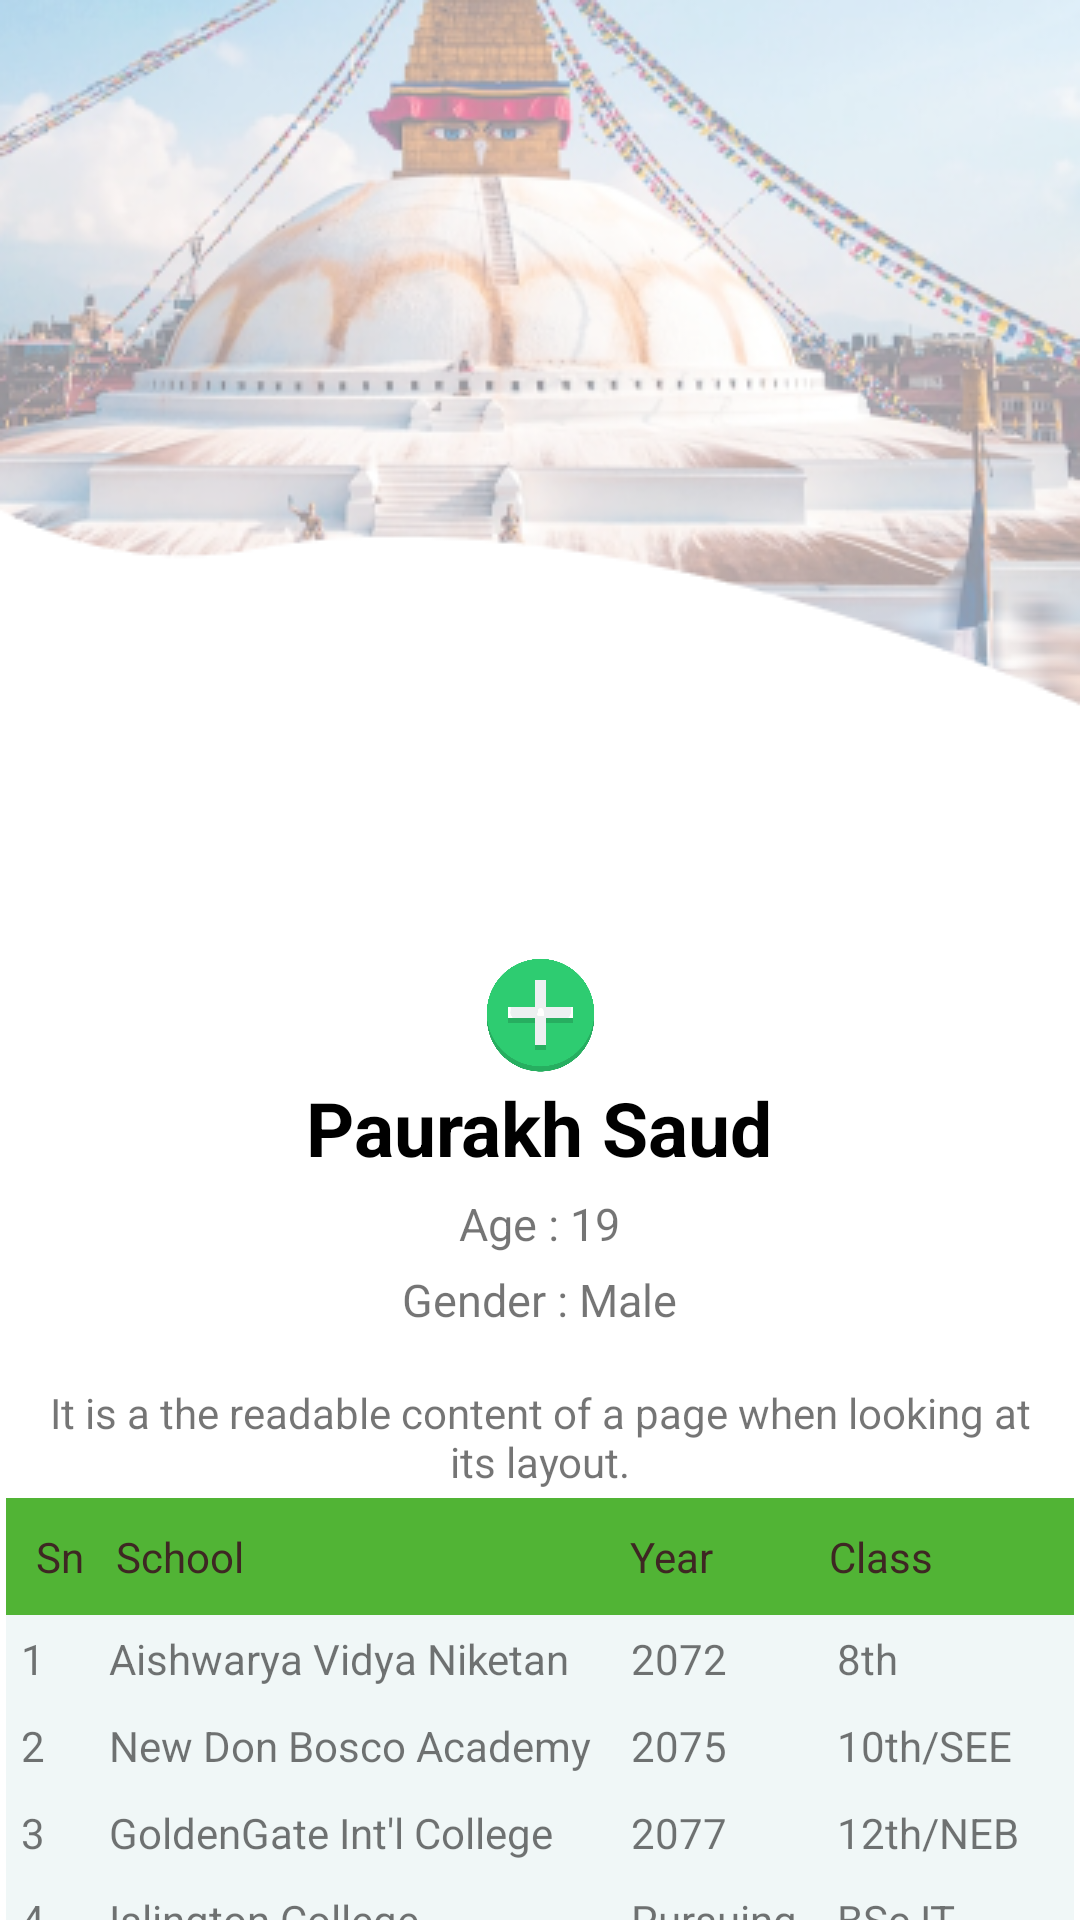

Icons on this 1080px x 1920px Android screen, each with the point to tap as point (x, y):
addphoto: point (540, 1015)
